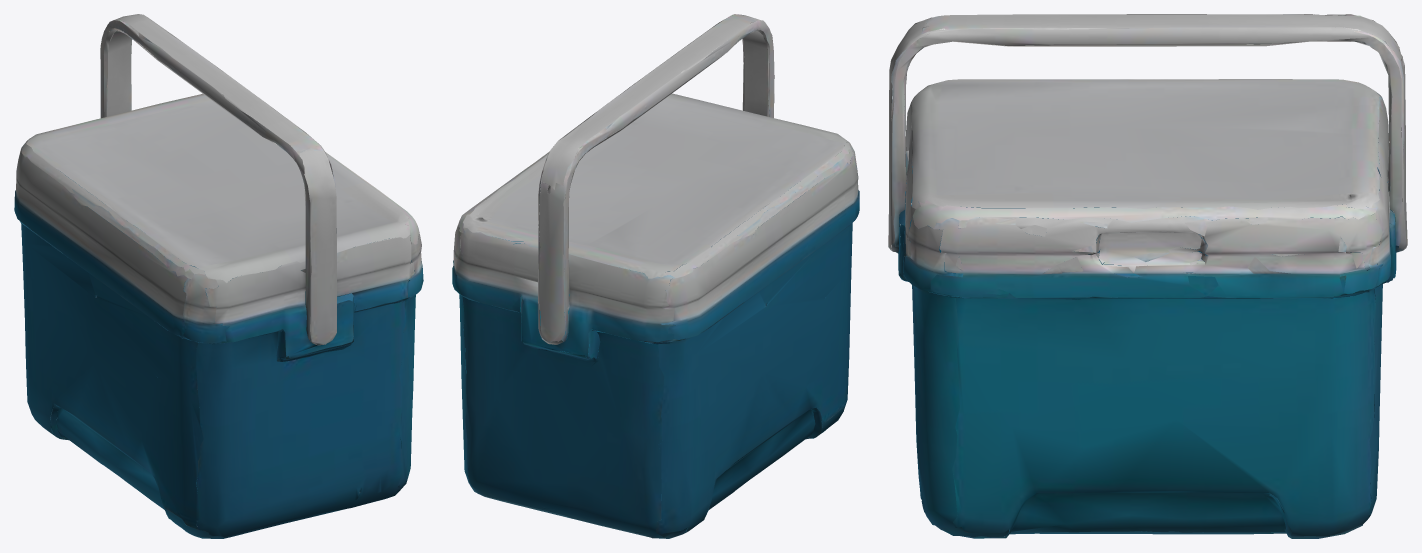
The model's file is cooler.glb.
3 renders of one model, left to right at view 1: azimuth 30°, elevation 25°; view 2: azimuth 150°, elevation 25°; view 3: azimuth 270°, elevation 25°, orthographic. The views are drawn at different scales.
Parts seen in each view (by area): view 1: geometry_0; view 2: geometry_0; view 3: geometry_0.
Boxes of the visible parts, <box> form: geometry_0: <box>14,14,423,538</box>; geometry_0: <box>452,14,859,538</box>; geometry_0: <box>888,14,1407,538</box>.
Size of the model in its own units: 0.3182 by 0.4761 by 0.4801.
Materials: 1 (1 with a texture image).
